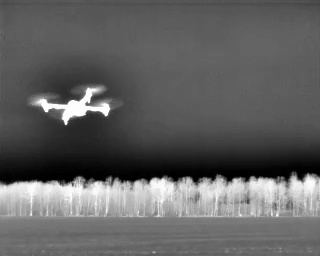DRONE: (27, 78, 132, 134)
